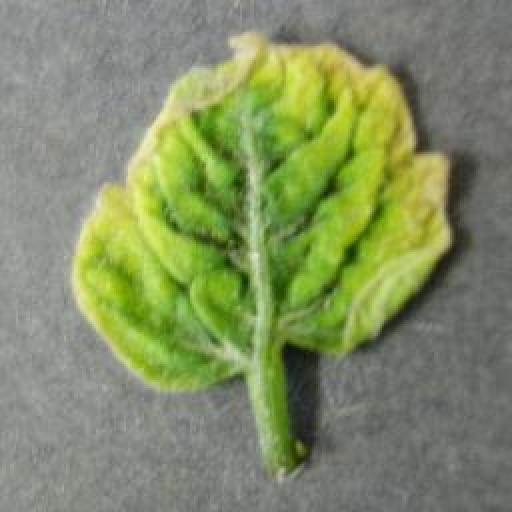Yellow Leaf Curl Virus: (71, 31, 456, 396)
